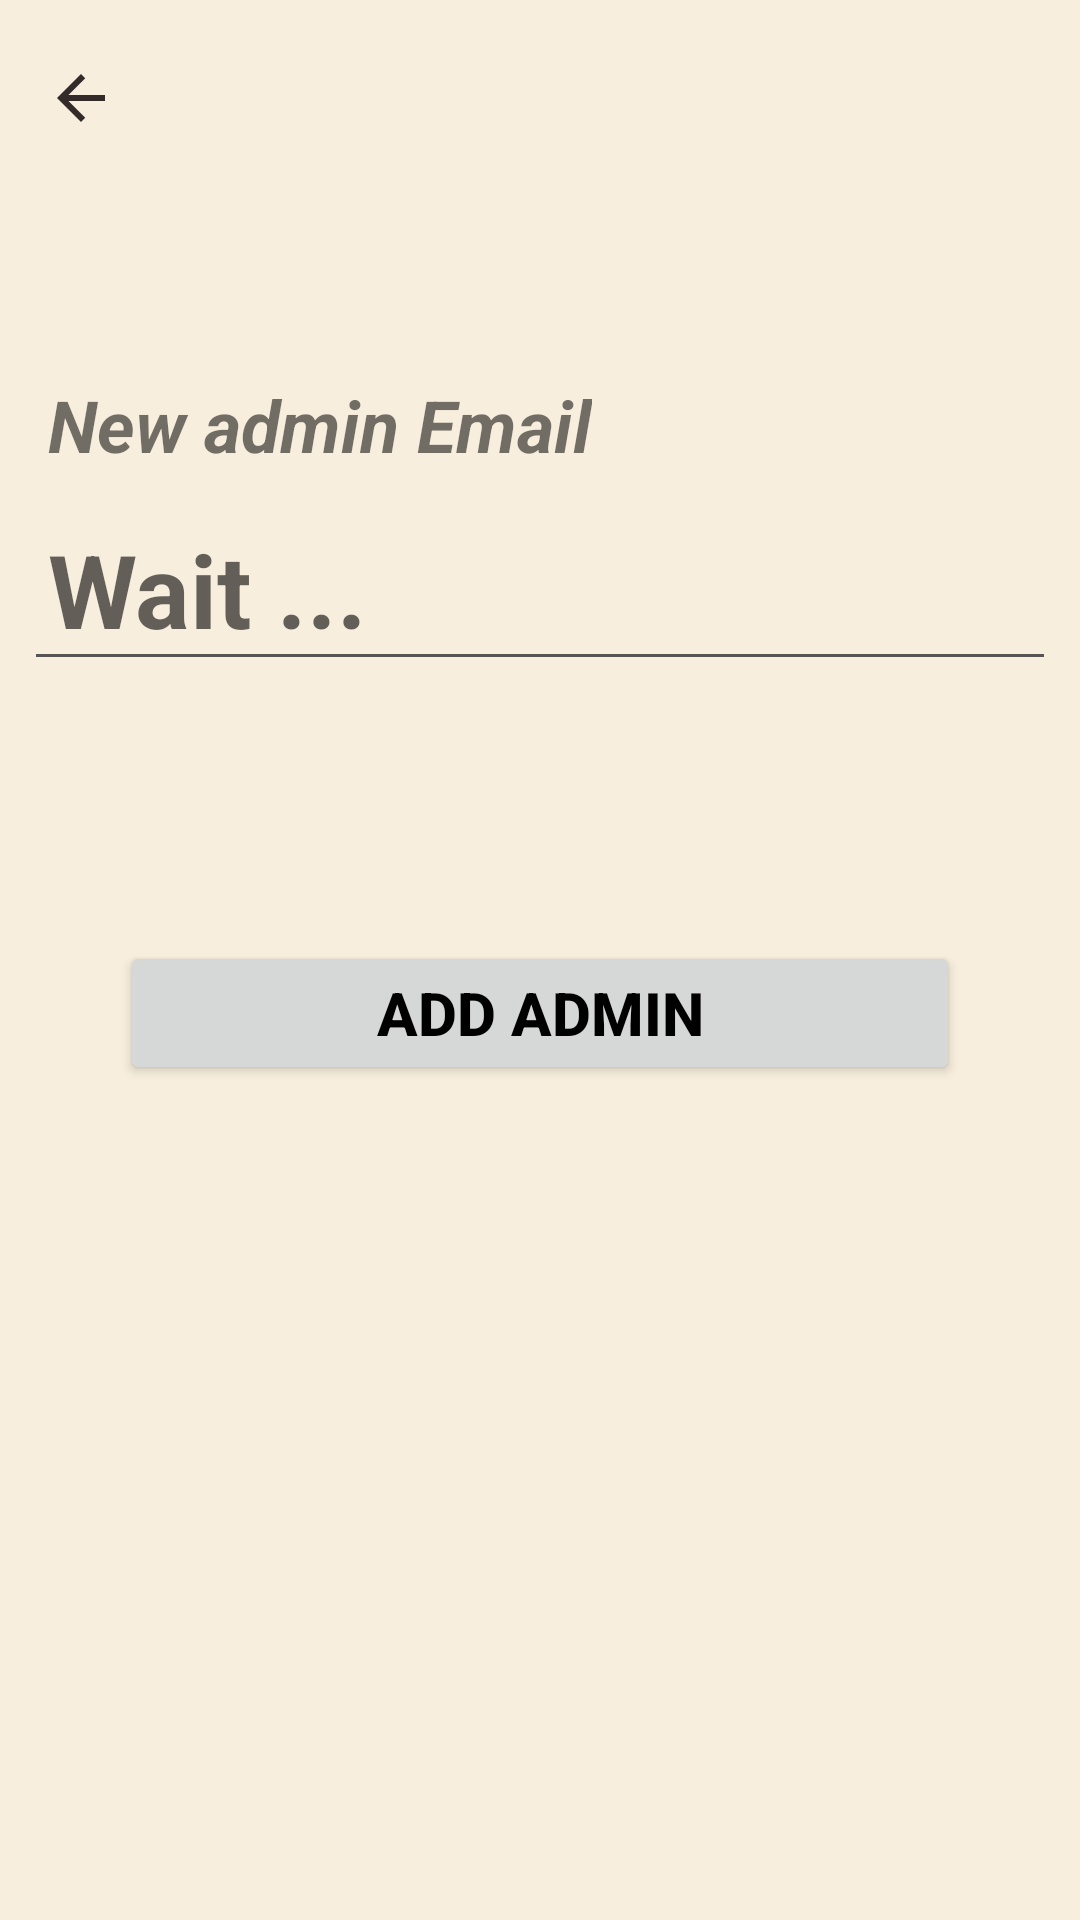

Icons on this 1080 x 1920 Android screen, each with the point to tap as [x,y]:
arrow back: [81,98]
